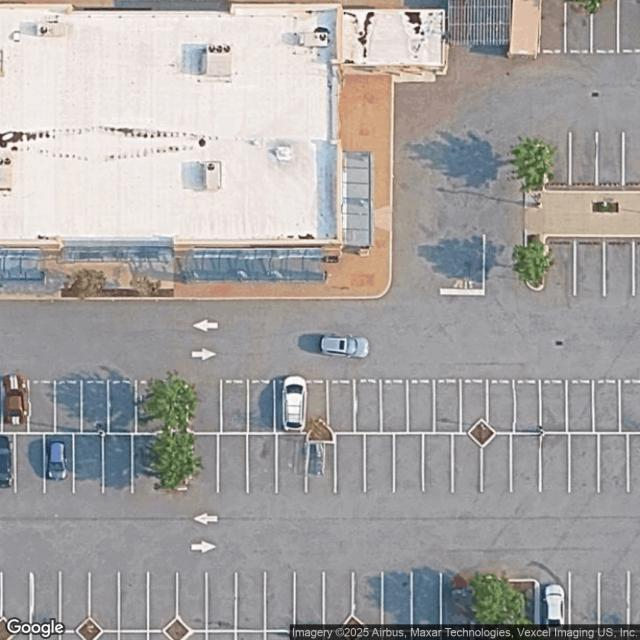car: (2, 374, 28, 426), (282, 375, 305, 431), (320, 336, 369, 360), (541, 584, 565, 625), (46, 440, 67, 480), (0, 436, 13, 488)
lot_boundary: (0, 0, 639, 639)
